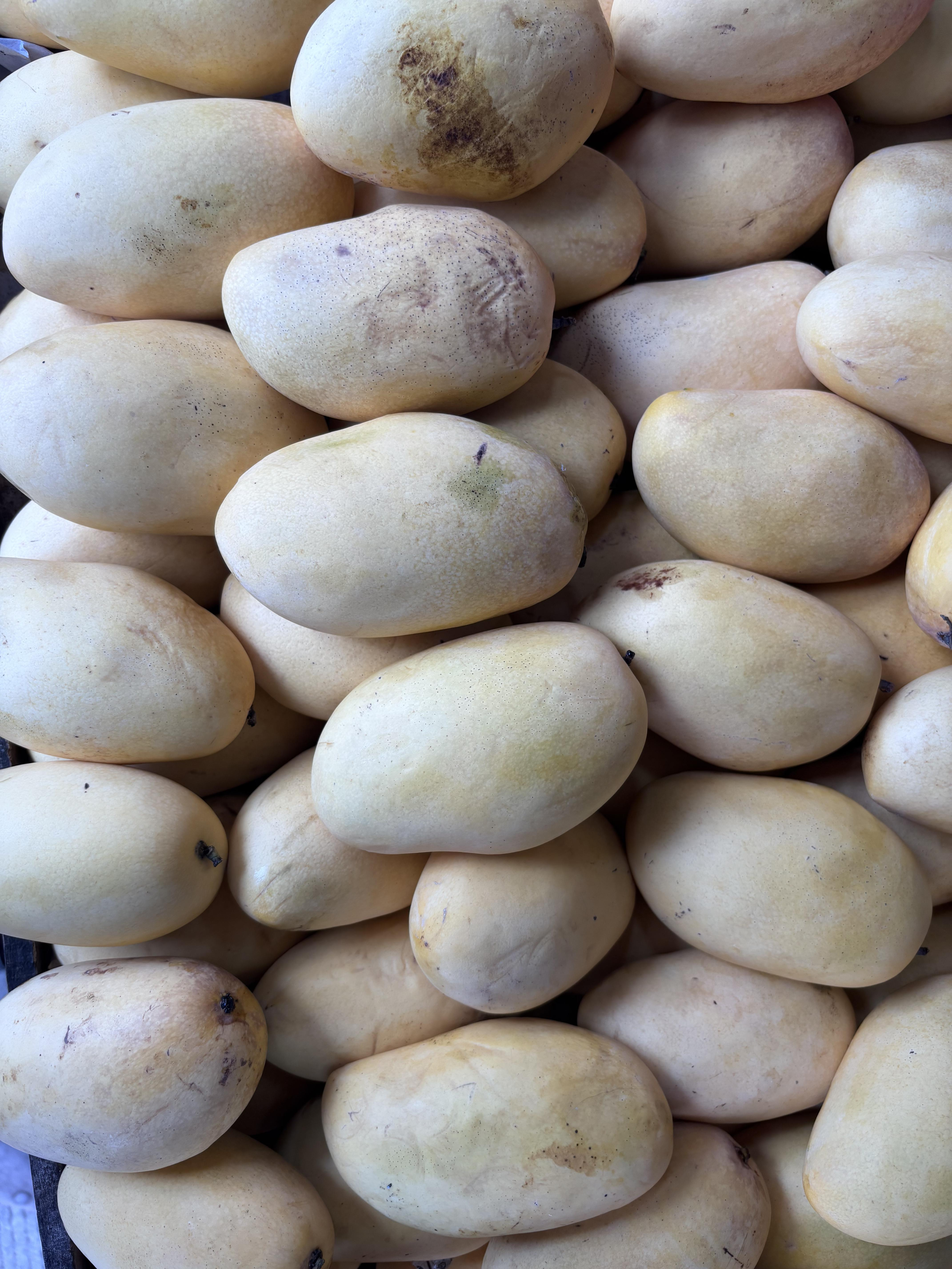mango: (216, 412, 586, 637), (312, 623, 647, 855), (322, 1018, 672, 1237), (223, 205, 554, 422), (626, 772, 932, 987), (633, 389, 930, 584), (798, 752, 952, 906)
occluded: (3, 98, 353, 320), (0, 319, 326, 536), (290, 0, 614, 202), (576, 559, 882, 772), (0, 957, 267, 1173), (550, 260, 823, 458), (0, 557, 255, 763), (578, 949, 856, 1124), (353, 146, 646, 309), (605, 95, 853, 281), (409, 813, 635, 1014), (0, 760, 228, 946), (220, 575, 511, 720), (484, 1122, 771, 1269), (803, 975, 952, 1245), (254, 909, 484, 1081), (58, 1130, 334, 1269), (227, 748, 427, 931), (736, 1111, 952, 1269), (610, 0, 932, 103), (13, 0, 330, 98), (0, 51, 198, 206), (797, 252, 952, 443), (469, 360, 625, 520), (512, 491, 695, 623), (802, 558, 952, 712), (828, 140, 952, 268), (862, 667, 952, 833), (836, 0, 952, 124), (848, 902, 952, 1024), (905, 484, 952, 649), (594, 69, 643, 131), (599, 0, 614, 22)
